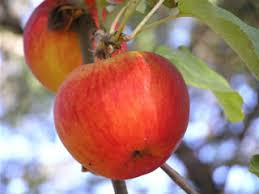apple: (53, 50, 190, 180)
